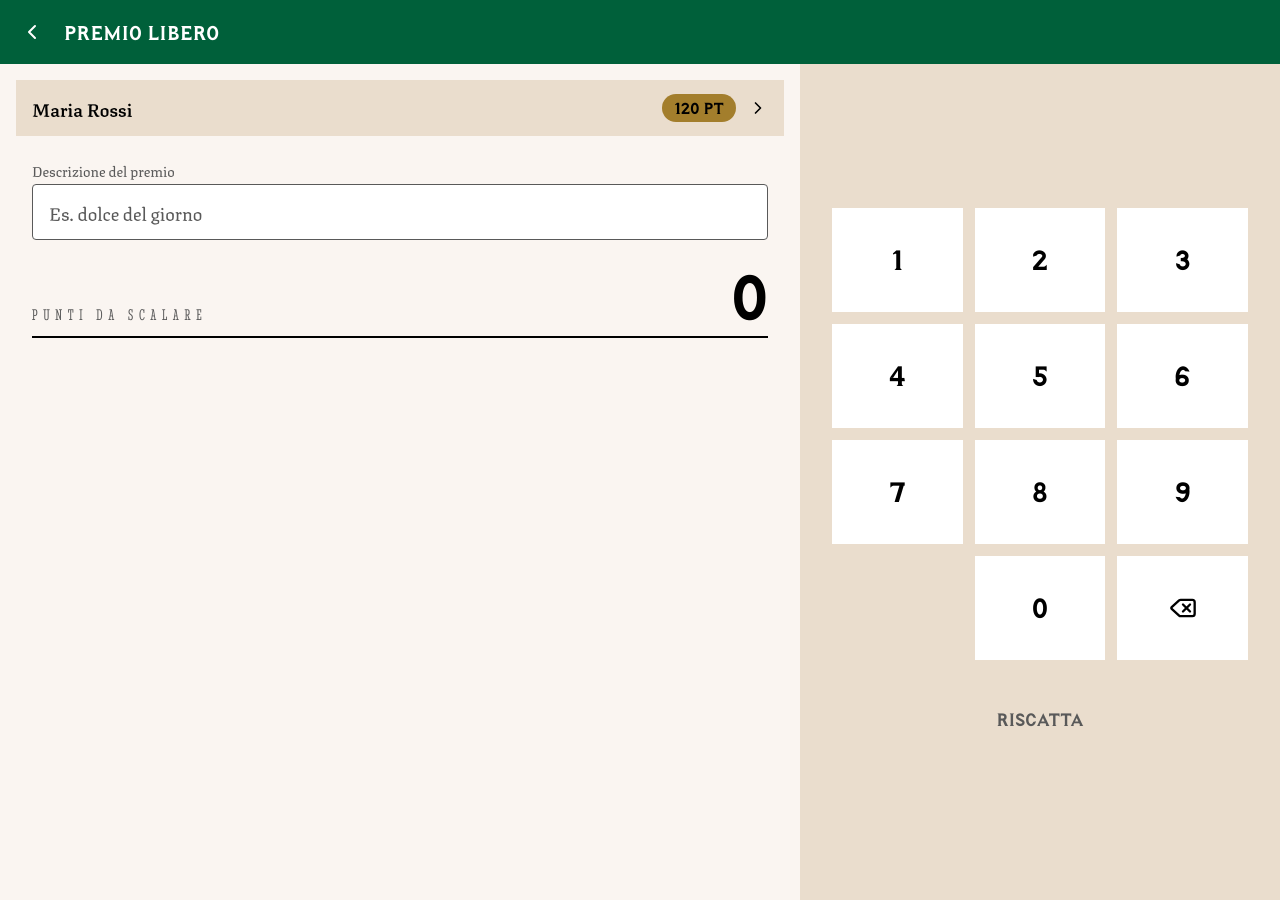
Test case: Premio libero at 1280×800 (wireframe "Tablet: premio libero") › the description and PUNTI DA SCALARE on the left, the keypad and "Riscatta" on the right
Type "Dolce del giorno" into the field labelled "Descrizione del premio" at coordinates (400, 212), box [32, 184, 768, 240]
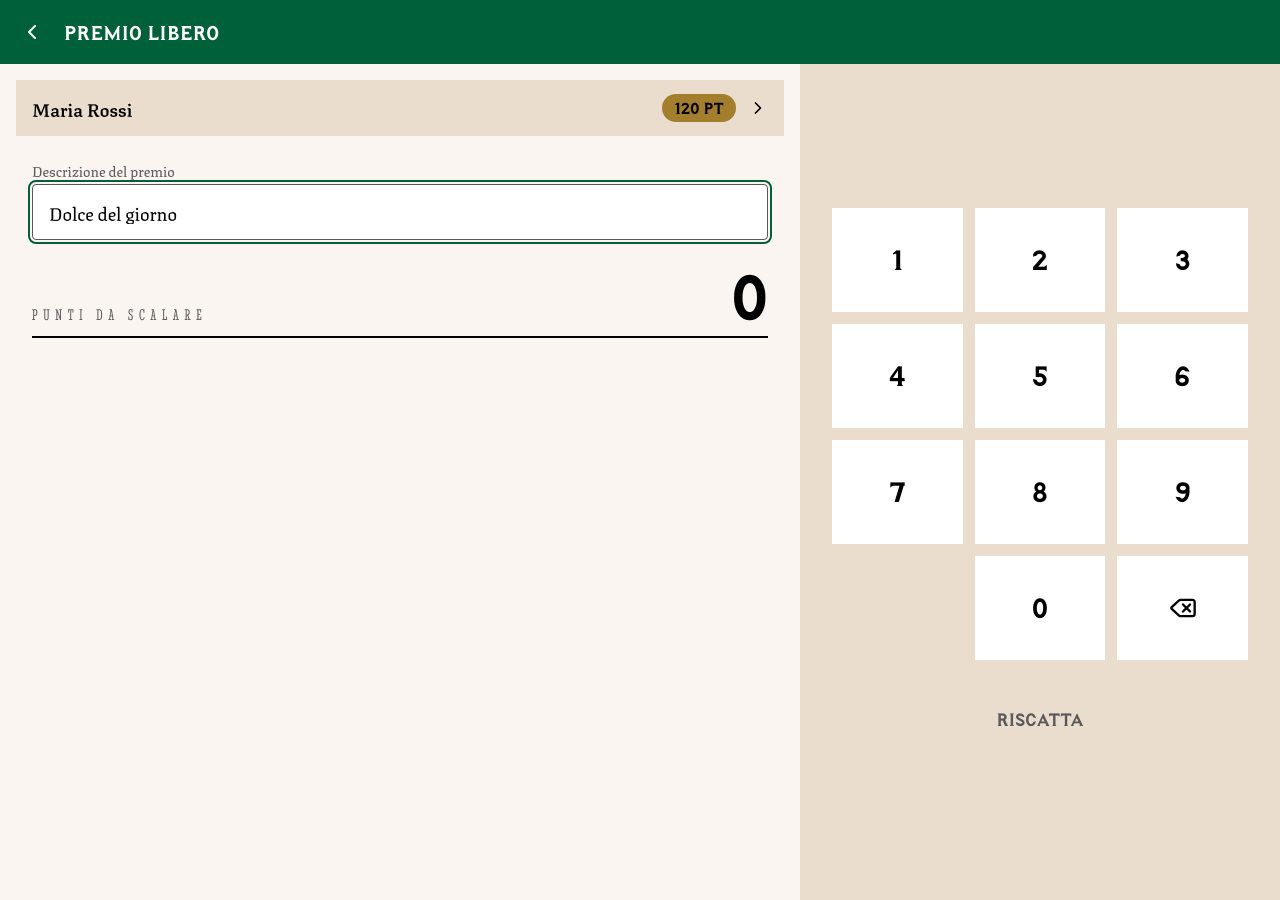
Check: the element "PUNTI DA SCALARE" is shown, box [32, 264, 768, 338]
Click the button "3" at coordinates (1183, 260), box [1117, 208, 1248, 312]
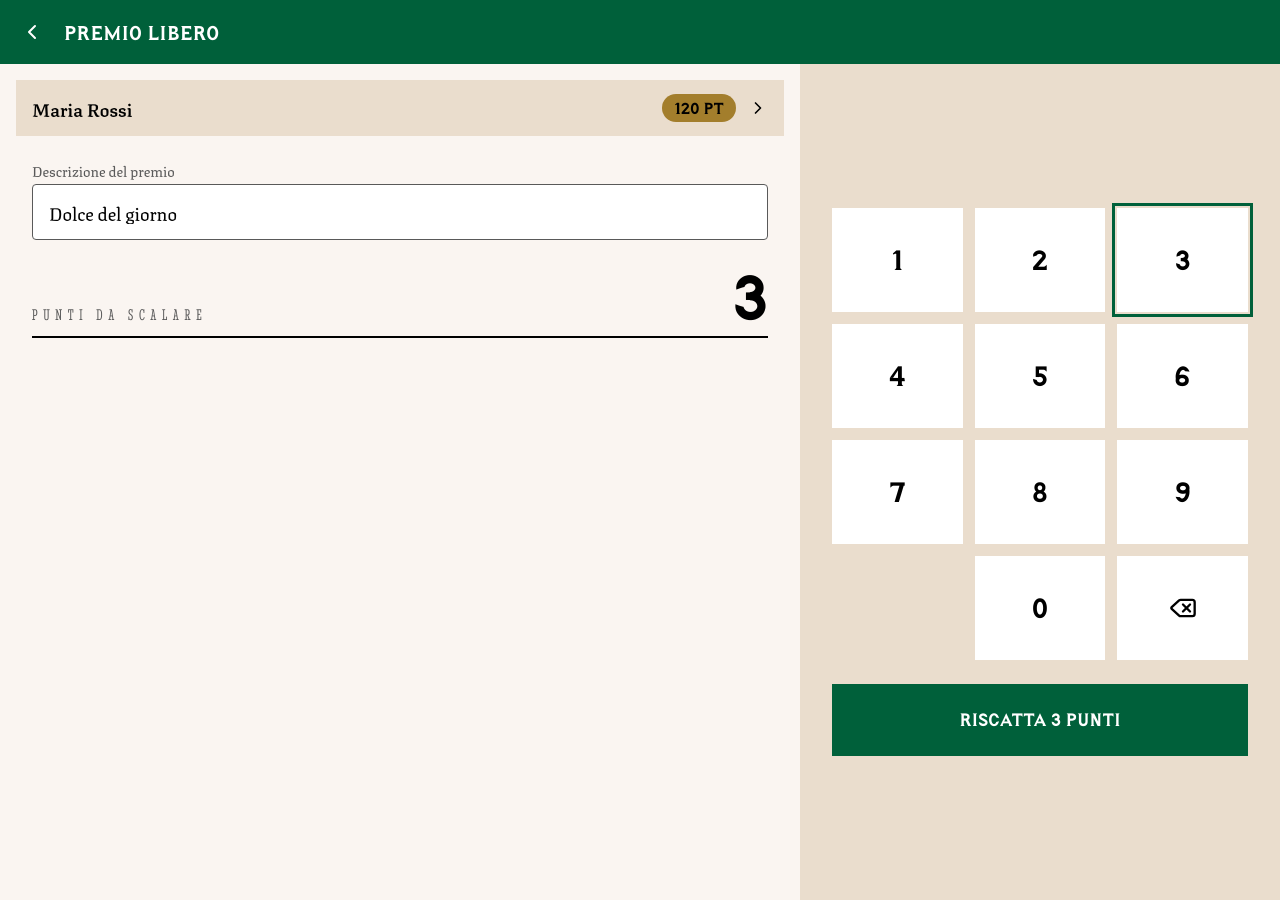
Click the button "0" at coordinates (1040, 608), box [975, 556, 1105, 660]
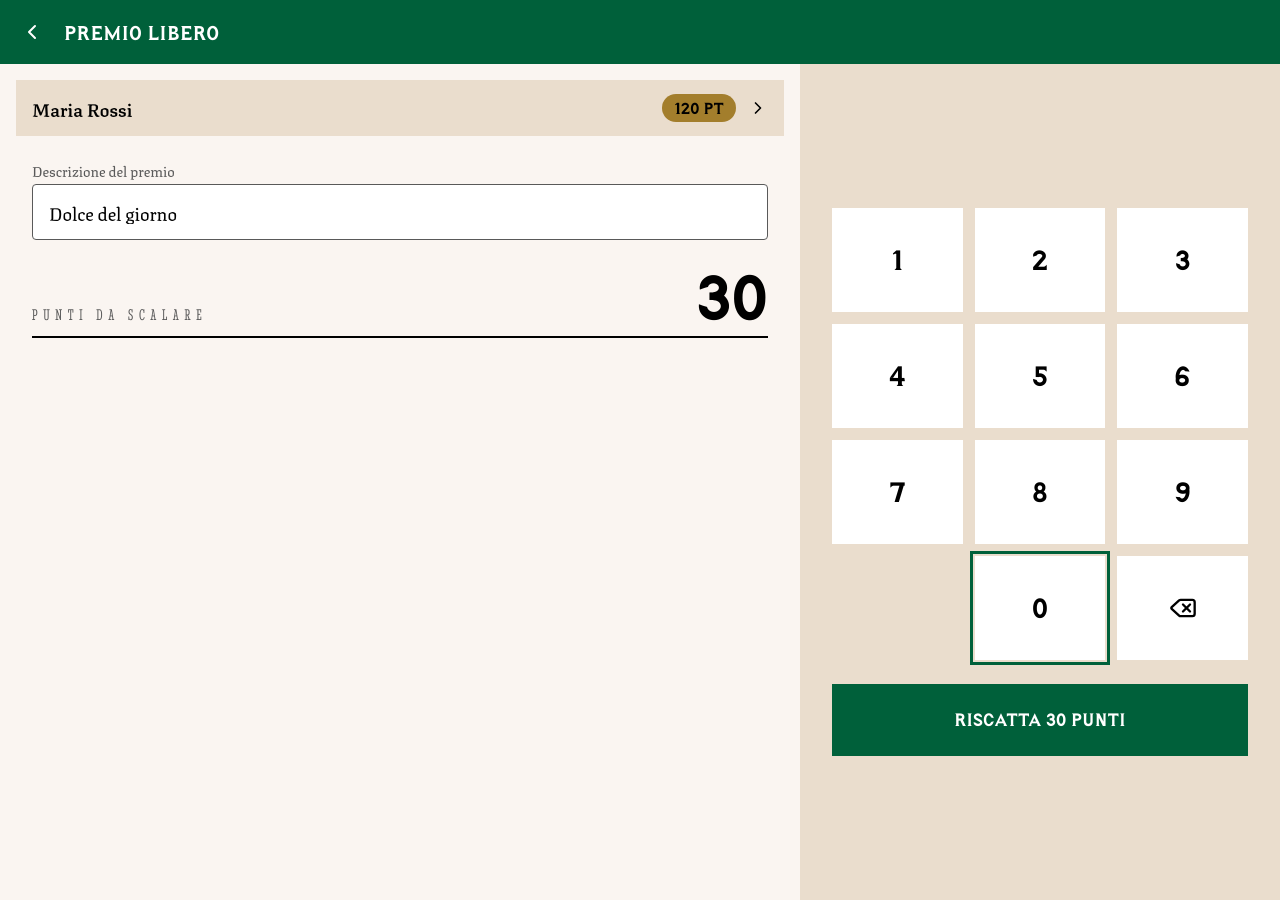
Click the button "Riscatta 30 punti" at coordinates (1040, 720), box [832, 684, 1248, 756]
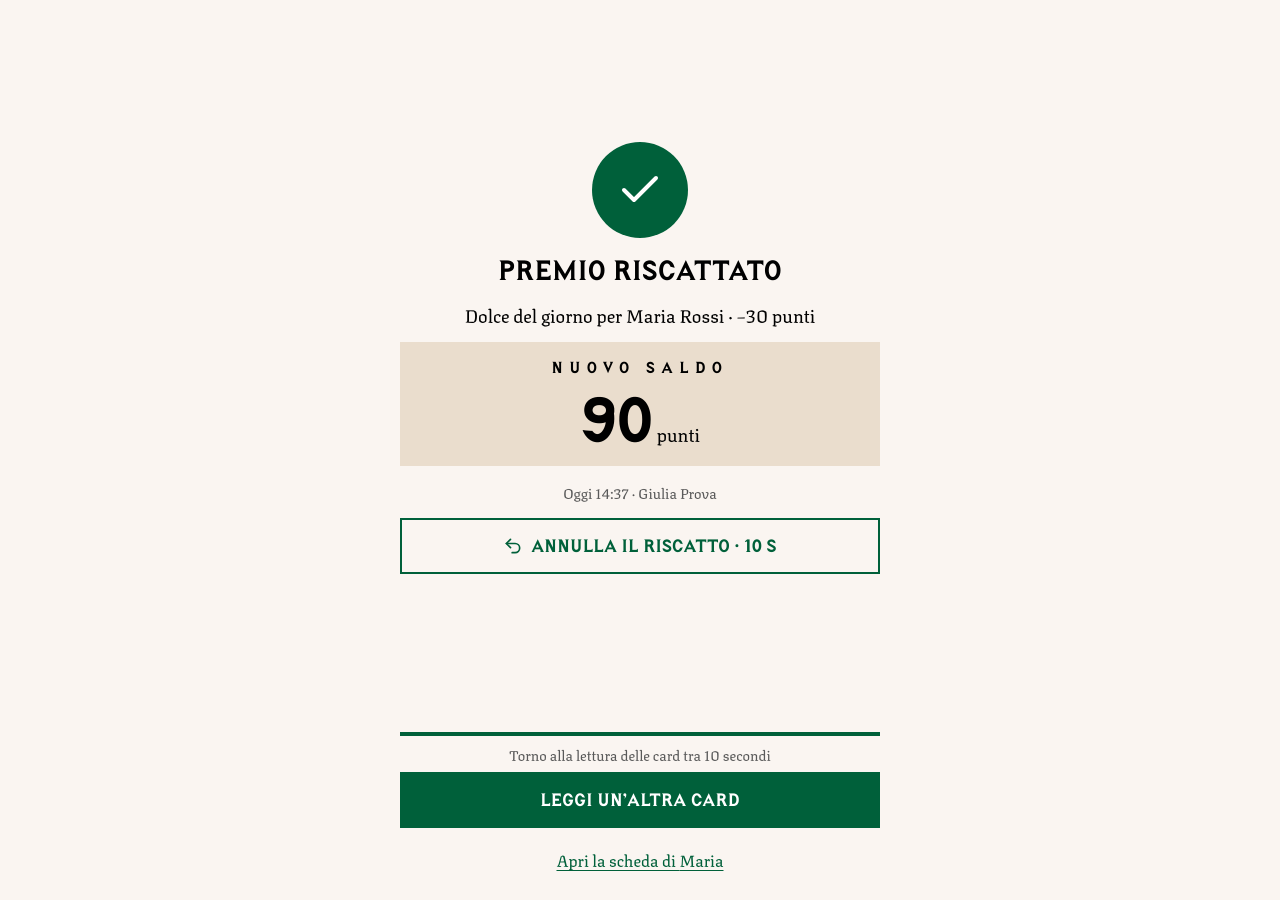
Check: the heading "Premio riscattato" is shown, box [498, 254, 782, 286]
